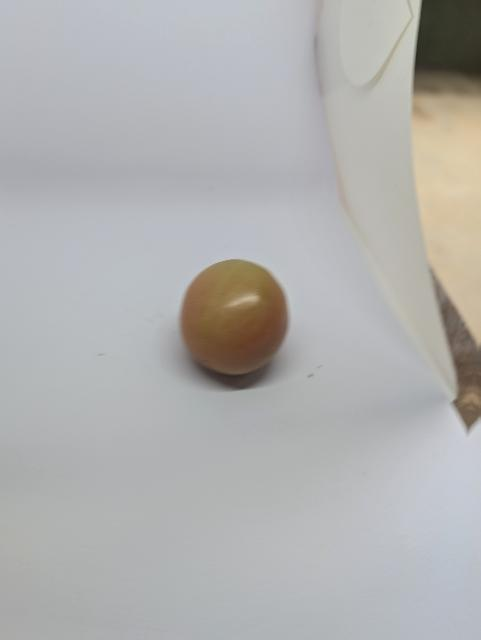turning: (176, 256, 299, 384)
